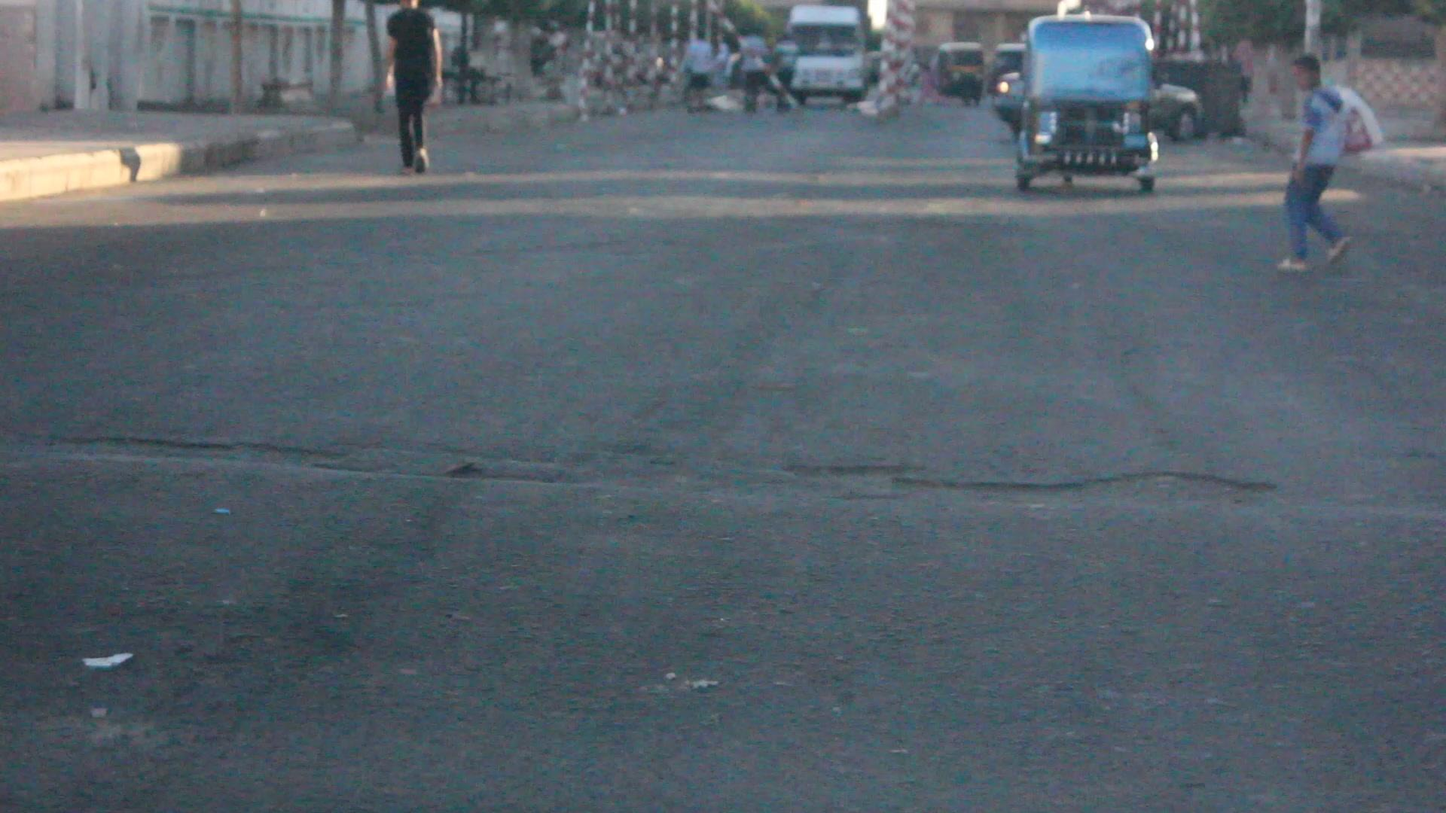Pothole: (781, 446, 1271, 540), (49, 423, 599, 506)
